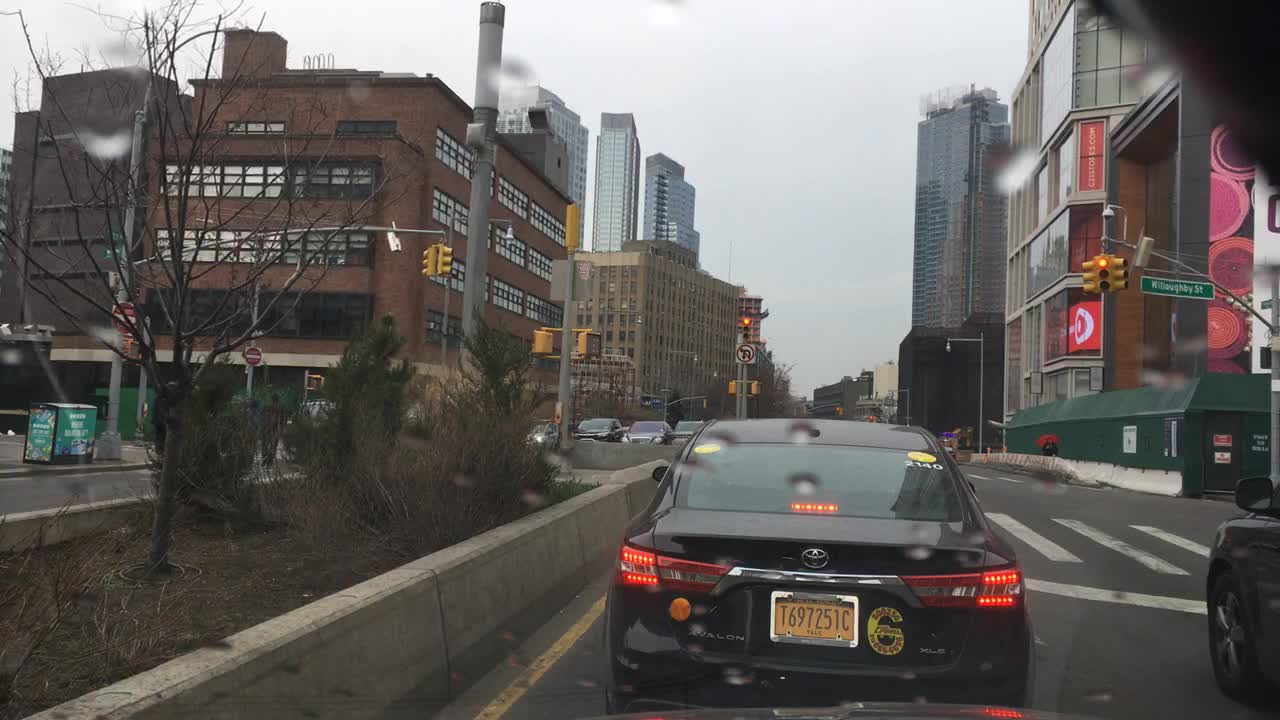car: (602, 416, 1031, 708), (1204, 470, 1278, 701), (286, 401, 338, 441), (573, 414, 622, 442), (621, 422, 671, 444), (527, 425, 557, 451), (673, 421, 706, 442), (401, 404, 425, 431), (937, 439, 955, 452)
person: (262, 393, 286, 470), (152, 391, 164, 456), (1035, 434, 1063, 452)
traffic light: (572, 328, 601, 360), (531, 326, 560, 356), (1112, 257, 1130, 290), (119, 338, 139, 366), (1080, 258, 1095, 294), (1095, 257, 1110, 289), (439, 244, 454, 273), (422, 245, 435, 275), (566, 202, 573, 247), (306, 374, 323, 391), (747, 380, 761, 396), (726, 381, 737, 395), (835, 406, 840, 416)
traffic sign: (551, 257, 590, 300), (1140, 274, 1215, 296), (112, 301, 137, 335), (243, 346, 263, 364), (102, 227, 126, 242), (736, 344, 756, 361), (101, 249, 122, 259), (1260, 298, 1278, 306)
